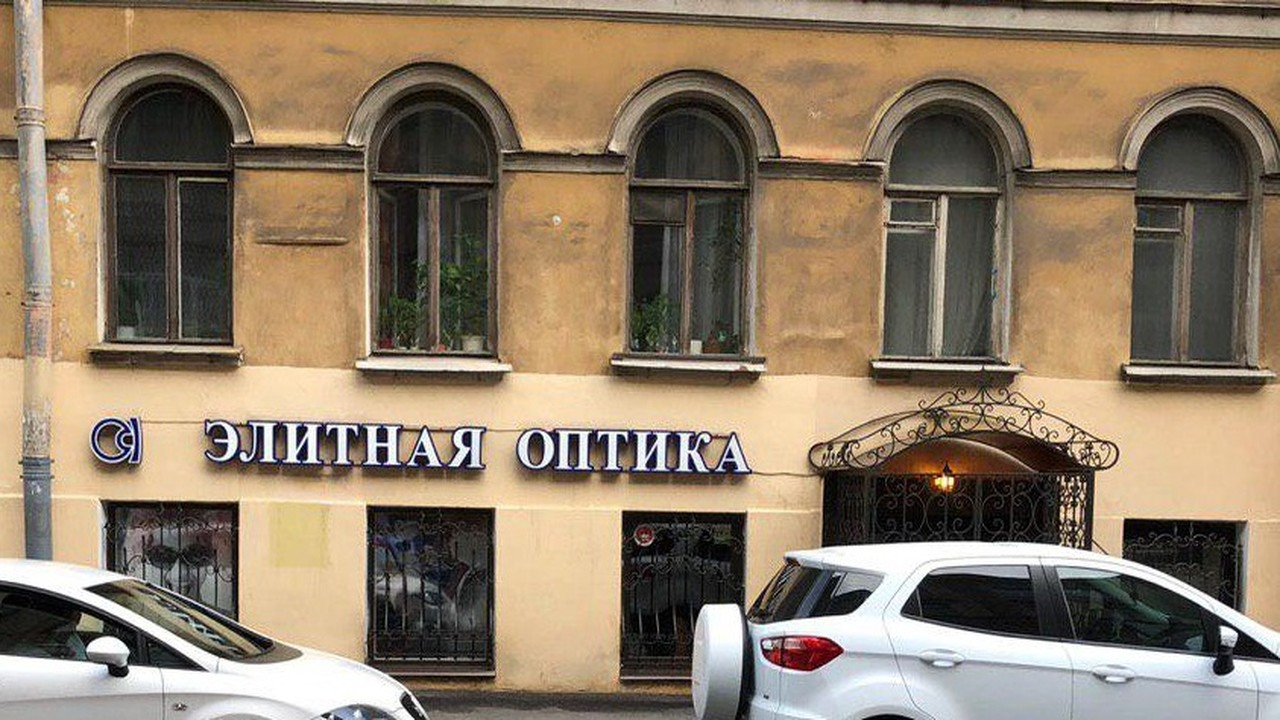signboard: (91, 417, 752, 472)
window: (366, 92, 499, 352), (625, 87, 752, 354), (108, 82, 237, 342), (873, 101, 1002, 356), (1134, 107, 1254, 362), (623, 511, 744, 677), (367, 509, 496, 663)
